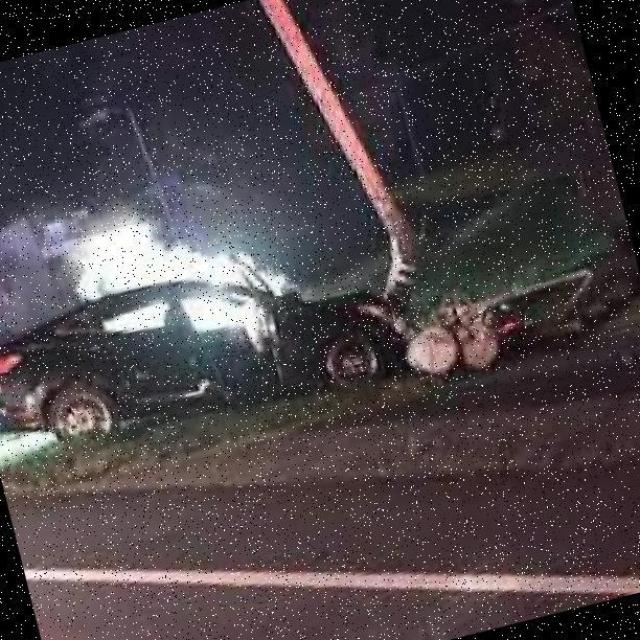accident: (0, 217, 419, 478)
